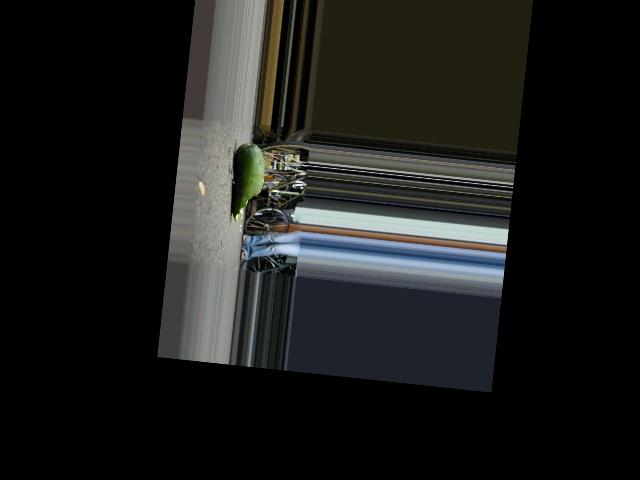cucumber: (228, 142, 267, 225)
